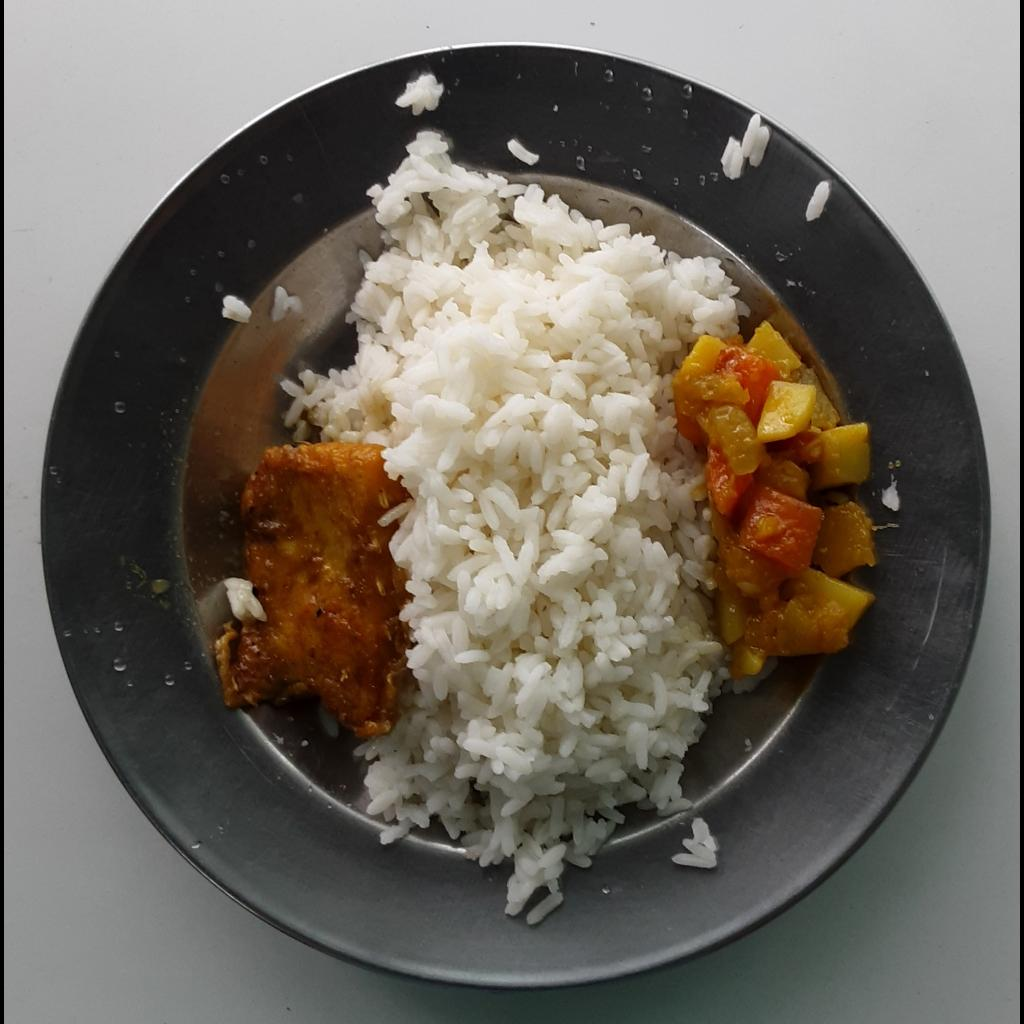fish: (212, 434, 412, 734)
rice: (276, 76, 745, 926)
vegetable: (670, 317, 881, 674)
